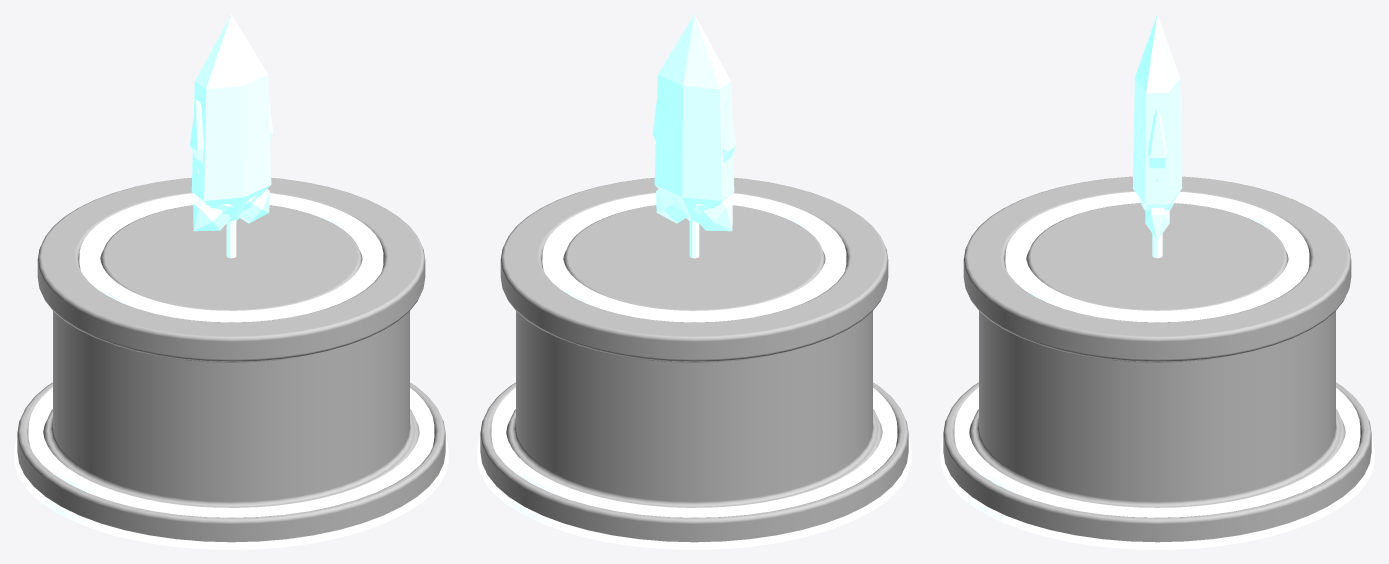
Rendered from Lobby_PED_Crystal.fbx.
3 renders of one model, left to right at view 1: azimuth 30°, elevation 25°; view 2: azimuth 150°, elevation 25°; view 3: azimuth 270°, elevation 25°, orthographic.
Visible parts, largest first — view 1: Lobby_PED_Crystal__PedestalMarble, Lobby_PED_Crystal__PedNeon_Crystal, Lobby_PED_Crystal__Glyph_Crystal; view 2: Lobby_PED_Crystal__PedestalMarble, Lobby_PED_Crystal__PedNeon_Crystal, Lobby_PED_Crystal__Glyph_Crystal; view 3: Lobby_PED_Crystal__PedestalMarble, Lobby_PED_Crystal__PedNeon_Crystal, Lobby_PED_Crystal__Glyph_Crystal.
Boxes of the visible parts, box(x1,y1,x2,y2) form: Lobby_PED_Crystal__PedestalMarble: box(17, 178, 445, 542); Lobby_PED_Crystal__PedNeon_Crystal: box(14, 193, 448, 549); Lobby_PED_Crystal__Glyph_Crystal: box(189, 14, 273, 231); Lobby_PED_Crystal__PedestalMarble: box(480, 178, 908, 542); Lobby_PED_Crystal__PedNeon_Crystal: box(477, 193, 911, 549); Lobby_PED_Crystal__Glyph_Crystal: box(652, 14, 736, 231); Lobby_PED_Crystal__PedestalMarble: box(943, 176, 1371, 542); Lobby_PED_Crystal__PedNeon_Crystal: box(940, 192, 1374, 549); Lobby_PED_Crystal__Glyph_Crystal: box(1132, 14, 1182, 239).
Size of the model in its own units: 4.26 by 4.82 by 4.26.
